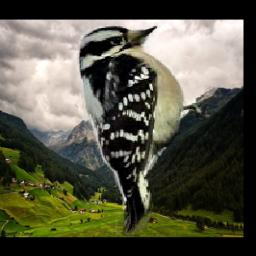Woodpecker: (74, 20, 221, 235)
